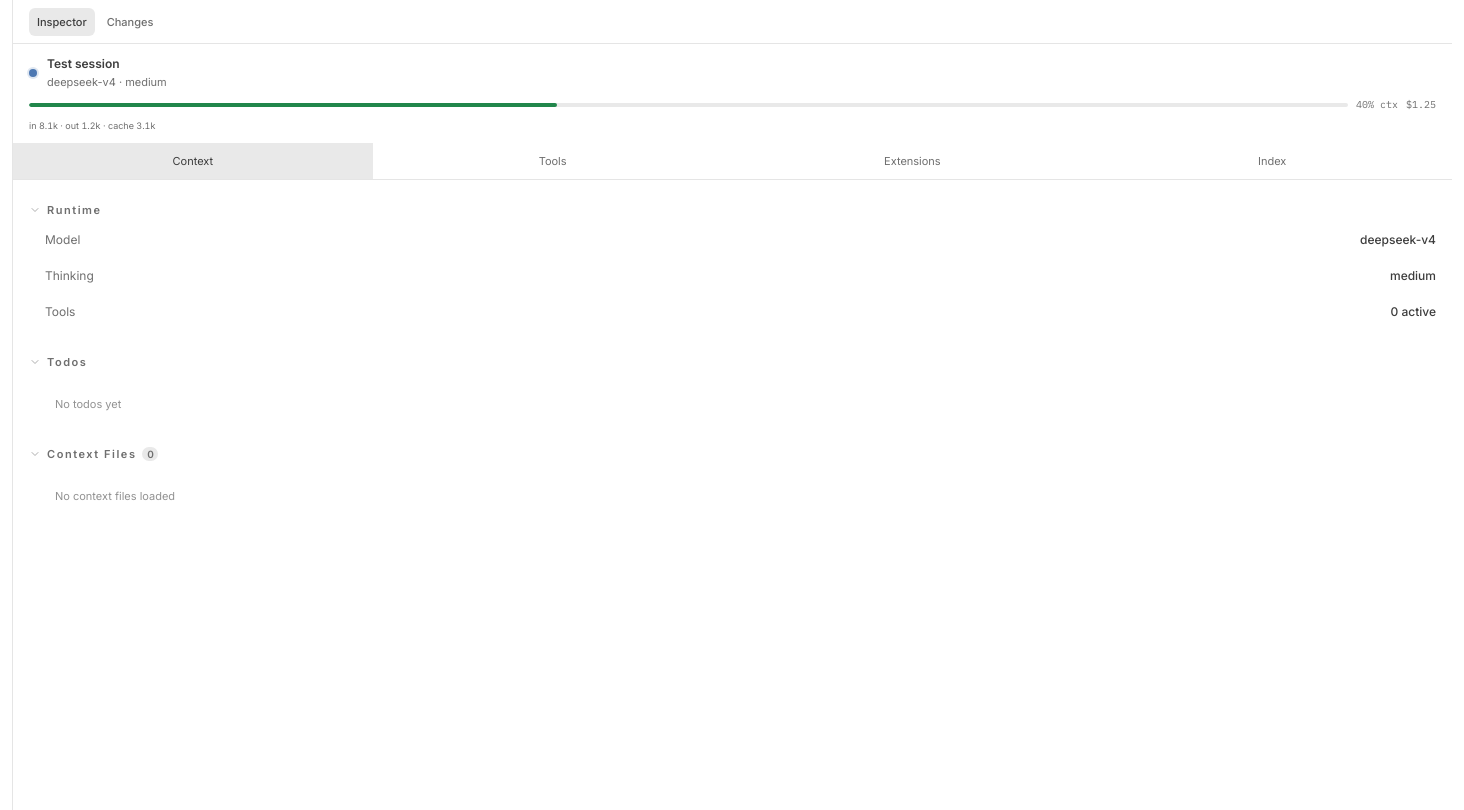
Test: ResourceInspector › extensions tab shows configured-but-idle MCP empty state
Click the button "Extensions": x=912, y=161 top-left (732, 143), bottom-right (1092, 179)
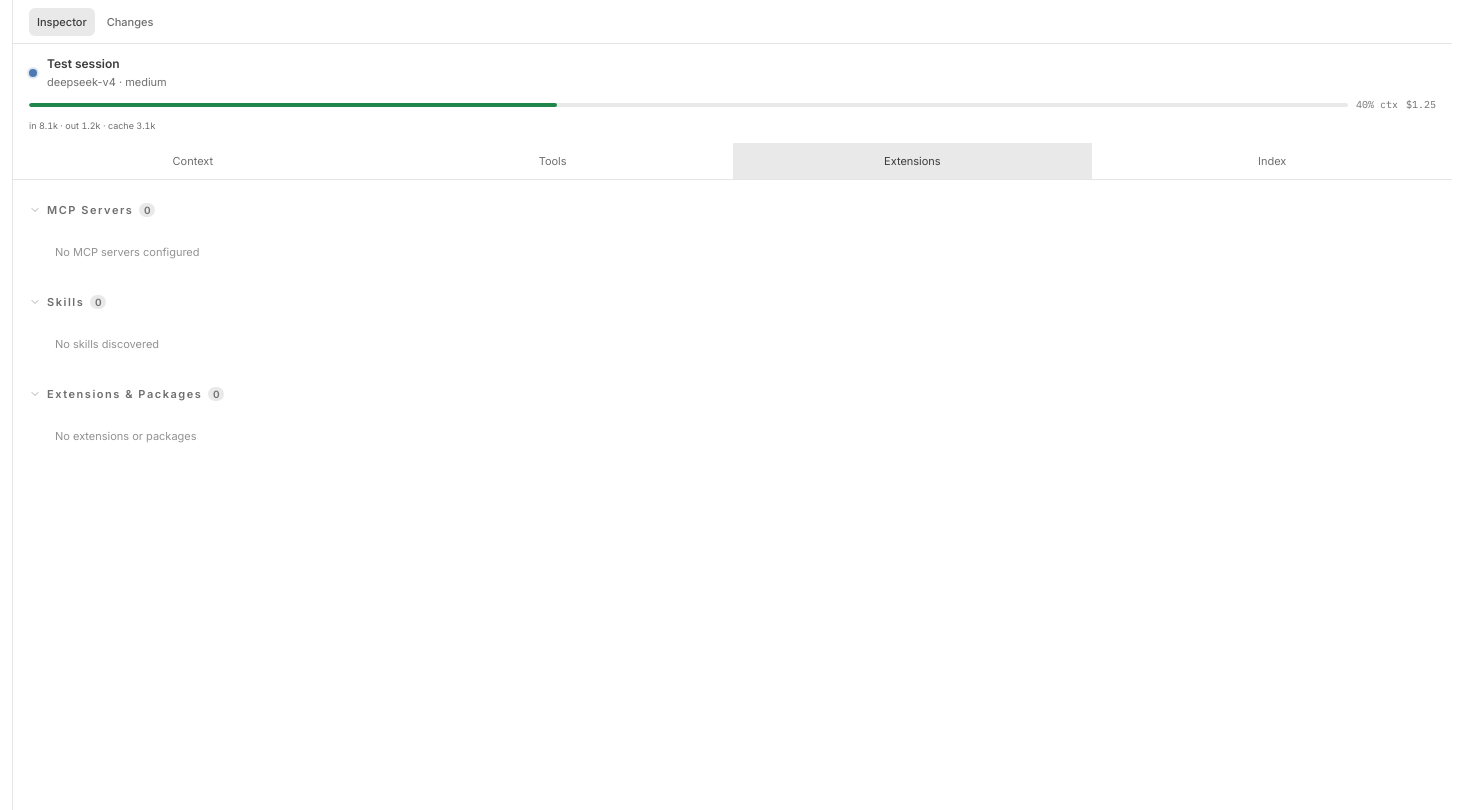
Expected: the text "No MCP servers configured" is shown, top-left (55, 245), bottom-right (200, 259)
